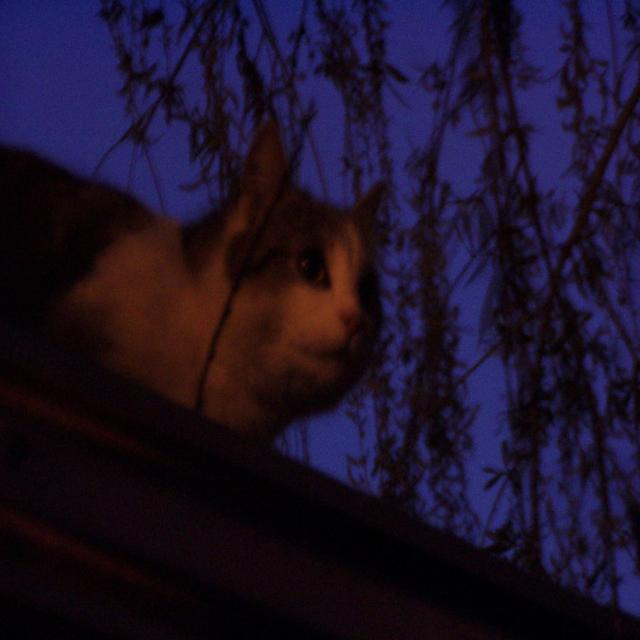Cat: (3, 113, 396, 445)
